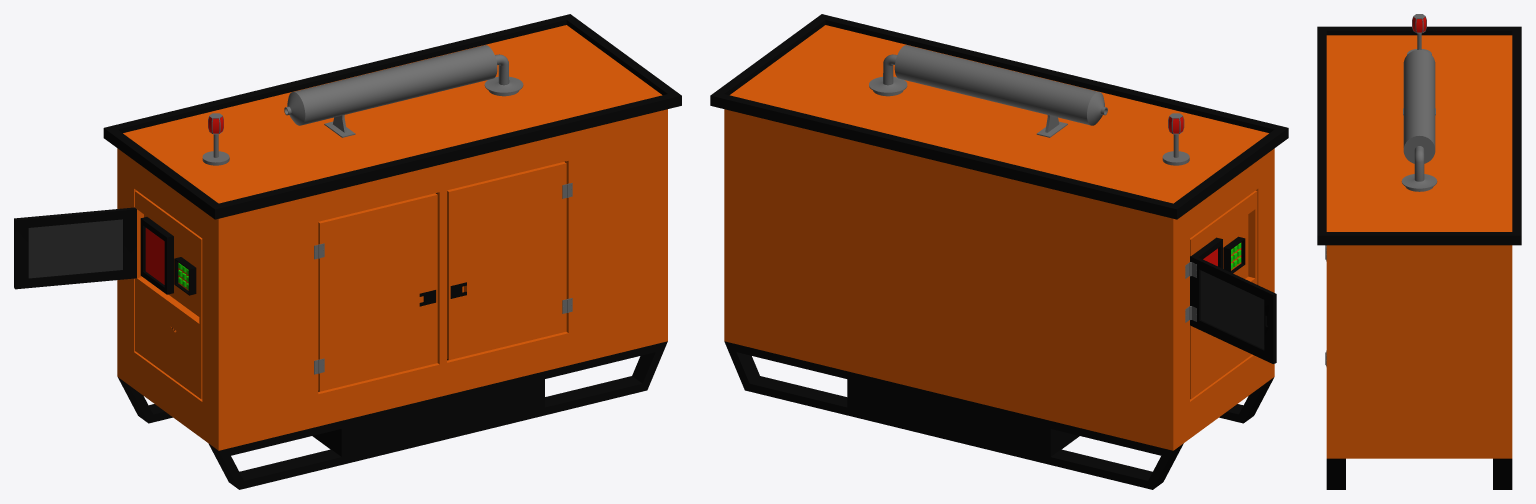
The model's file is gen.fbx.
3 renders of one model, left to right at view 1: azimuth 30°, elevation 25°; view 2: azimuth 150°, elevation 25°; view 3: azimuth 270°, elevation 25°, orthographic. The views are drawn at different scales.
Visible parts, largest first — view 1: gen, screen; view 2: gen; view 3: gen.
Boxes of the visible parts, x1,y1,x2,y2 form: gen: (14,14,681,489); screen: (140,217,173,294); gen: (710,14,1288,489); gen: (1317,14,1521,489).
Bounding box in the file's own units: 286 × 162 × 98.3.
